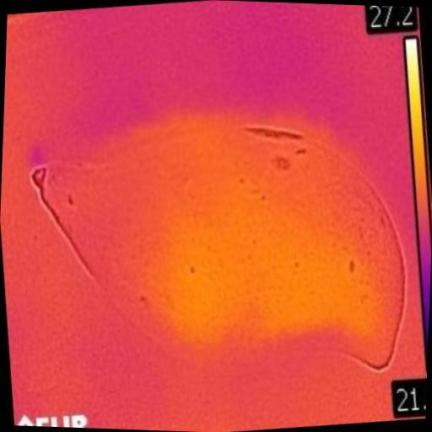mango: (40, 116, 403, 365)
